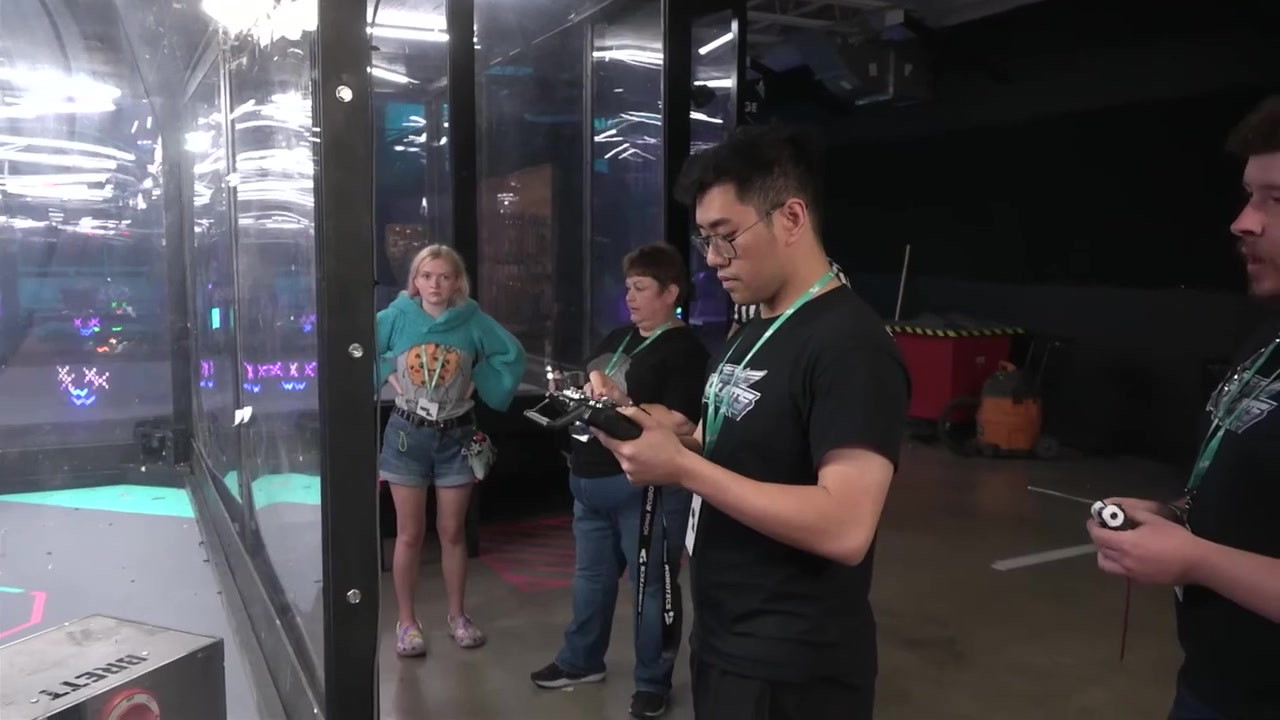housebot: (1, 614, 224, 718)
